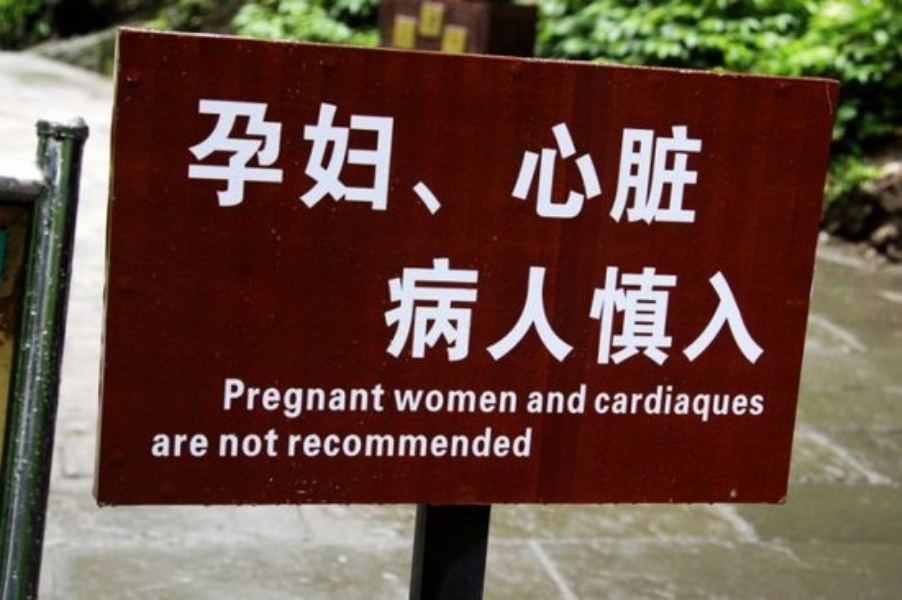text: (193, 96, 208, 238), (209, 96, 224, 238), (225, 96, 240, 238), (241, 96, 256, 238), (257, 96, 272, 238), (273, 96, 288, 238), (289, 96, 304, 238), (305, 96, 320, 238), (321, 96, 336, 238), (337, 96, 352, 238), (353, 96, 368, 238), (369, 96, 384, 238), (385, 96, 400, 238), (401, 96, 416, 238), (417, 96, 432, 238), (433, 96, 448, 238), (449, 96, 464, 238), (465, 96, 480, 238), (481, 96, 496, 238), (497, 96, 512, 238), (513, 96, 528, 238), (529, 96, 544, 238), (545, 96, 560, 238), (561, 96, 576, 238), (577, 96, 592, 238), (593, 96, 608, 238), (609, 96, 624, 238), (625, 96, 640, 238), (641, 96, 656, 238), (657, 96, 672, 238), (673, 96, 688, 238), (689, 96, 704, 238), (385, 255, 400, 374), (401, 255, 416, 374), (417, 255, 432, 374), (433, 255, 448, 374), (449, 255, 464, 374), (465, 255, 480, 374), (481, 255, 496, 374), (497, 255, 512, 374), (513, 255, 528, 374), (529, 255, 544, 374), (545, 255, 560, 374), (561, 255, 576, 374), (577, 255, 592, 374), (593, 255, 608, 374), (609, 255, 624, 374), (625, 255, 640, 374), (641, 255, 656, 374), (657, 255, 672, 374), (673, 255, 688, 374), (689, 255, 704, 374), (705, 255, 720, 374), (721, 255, 736, 374), (737, 255, 752, 374), (753, 255, 768, 374), (186, 96, 192, 238), (225, 376, 240, 420), (241, 376, 256, 420), (257, 376, 272, 420), (273, 376, 288, 420), (289, 376, 304, 420), (305, 376, 320, 420), (321, 376, 336, 420), (337, 376, 352, 420), (353, 376, 368, 420), (369, 376, 384, 420), (609, 382, 624, 423), (625, 382, 640, 423), (641, 382, 656, 423), (657, 382, 672, 423), (673, 382, 688, 423), (689, 382, 704, 423), (705, 382, 720, 423), (721, 382, 736, 423), (737, 382, 752, 423), (594, 382, 608, 423), (529, 382, 544, 415), (545, 382, 560, 415), (561, 382, 576, 415), (753, 382, 765, 423), (289, 428, 304, 460), (305, 428, 320, 460), (321, 428, 336, 460), (337, 428, 352, 460), (353, 428, 368, 460), (369, 428, 384, 460), (385, 428, 400, 460), (401, 428, 416, 460), (417, 428, 432, 460), (433, 428, 448, 460), (449, 428, 464, 460), (465, 428, 480, 460), (481, 428, 496, 460), (497, 428, 512, 460), (513, 428, 528, 460), (225, 427, 240, 458), (241, 427, 256, 458), (257, 427, 272, 458), (401, 387, 416, 417), (417, 387, 432, 417), (433, 387, 448, 417), (449, 387, 464, 417), (465, 387, 480, 417), (481, 387, 496, 417), (497, 387, 512, 417), (161, 432, 176, 461), (177, 432, 192, 461), (193, 432, 208, 461), (577, 382, 589, 415), (148, 432, 160, 461), (705, 96, 707, 238), (529, 428, 537, 460), (392, 387, 400, 417), (769, 255, 771, 374), (217, 427, 224, 458), (273, 427, 279, 458), (513, 387, 519, 417), (385, 376, 388, 420), (209, 432, 212, 461), (527, 382, 528, 415)
